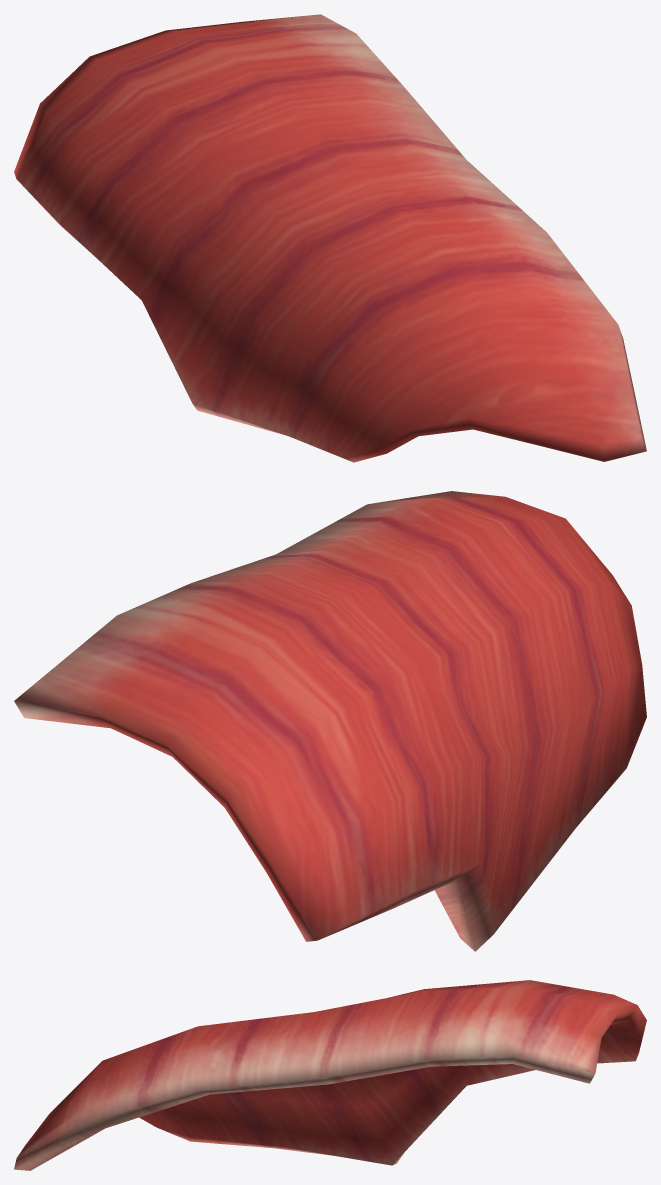
The model's file is OblExterno.fbx.
The picture shows the model from 3 angles, top to bottom: view 1: azimuth 30°, elevation 25°; view 2: azimuth 150°, elevation 25°; view 3: azimuth 270°, elevation 25°; orthographic projection. The views are drawn at different scales.
Visible parts, largest first — view 1: OblExterno; view 2: OblExterno; view 3: OblExterno.
Part boxes in pixels (left/top/right/bottom): OblExterno: left=14, top=14, right=646, bottom=462; OblExterno: left=14, top=491, right=646, bottom=951; OblExterno: left=14, top=980, right=646, bottom=1170.
Size of the model in its own units: 51.71 by 46.69 by 123.
